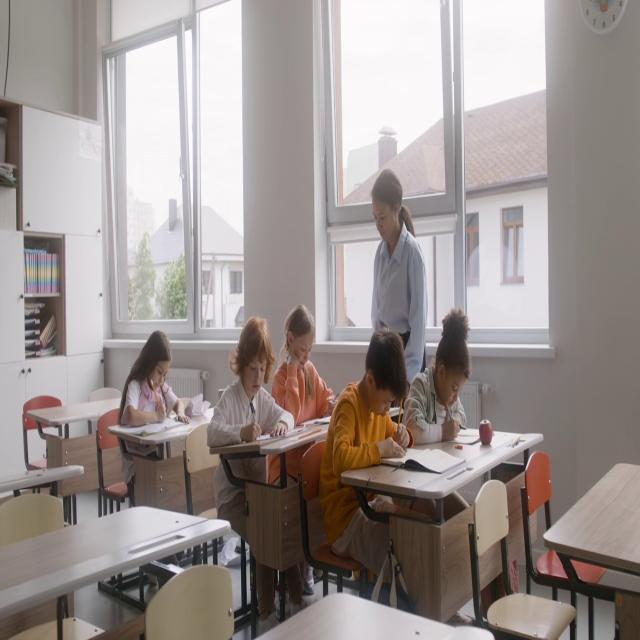reading: (274, 300, 335, 477)
writing: (322, 330, 441, 609), (402, 310, 494, 612), (210, 318, 300, 623), (117, 330, 195, 584)
